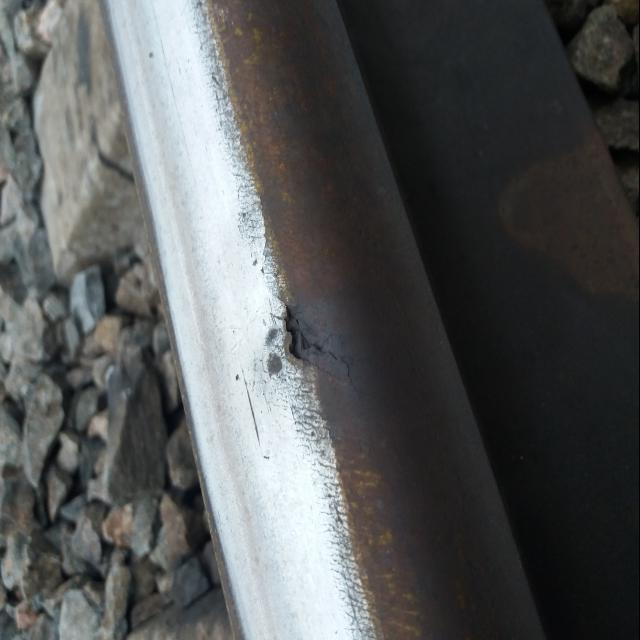broken_rail_medium: (270, 303, 356, 383)
